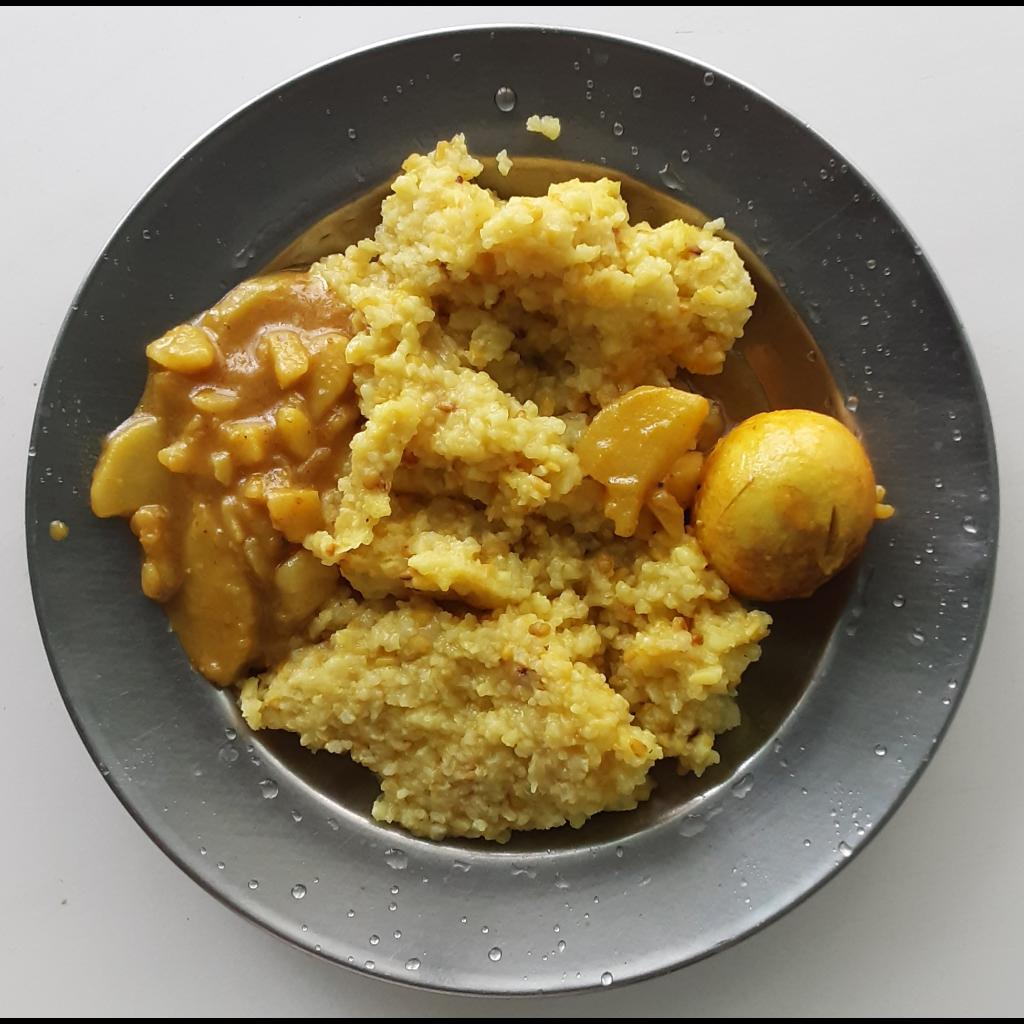egg-boiled: (697, 409, 898, 602)
khichuri: (233, 128, 773, 840)
potato: (90, 272, 358, 696), (577, 385, 712, 533)
